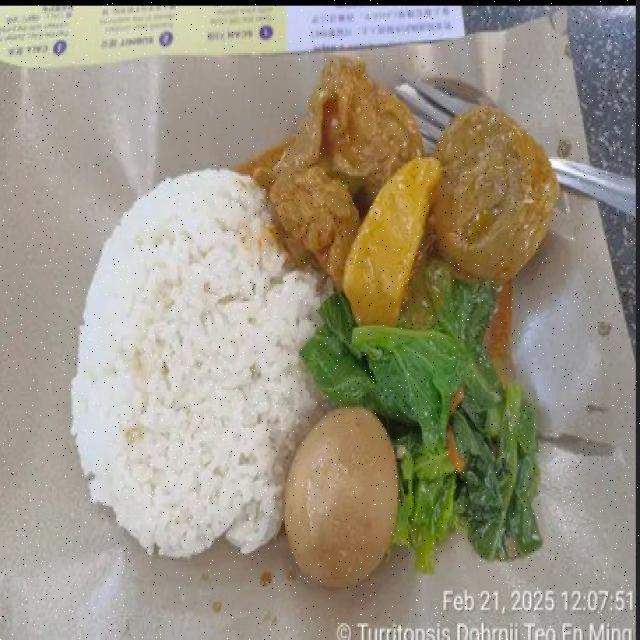Chicken: (268, 57, 423, 284), (425, 106, 558, 282)
Egg: (284, 407, 397, 585)
Green veg: (302, 256, 539, 568)
Potato: (342, 159, 439, 324)
Rice: (71, 169, 323, 557)
